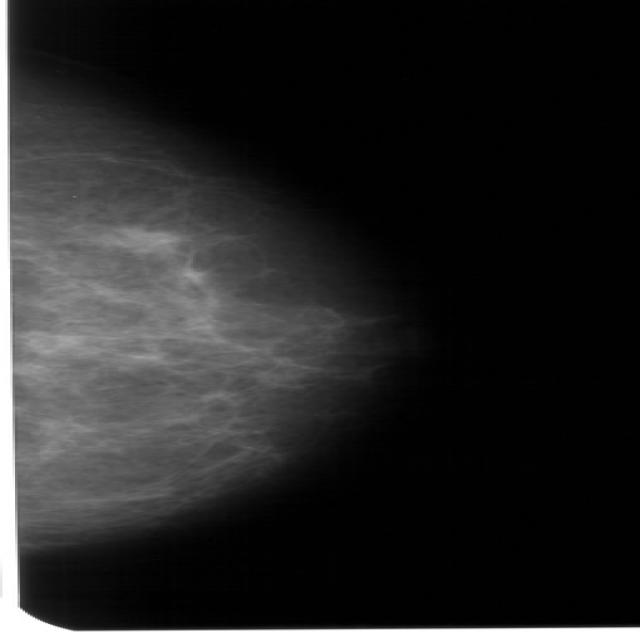tumour: (15, 330, 85, 356)
